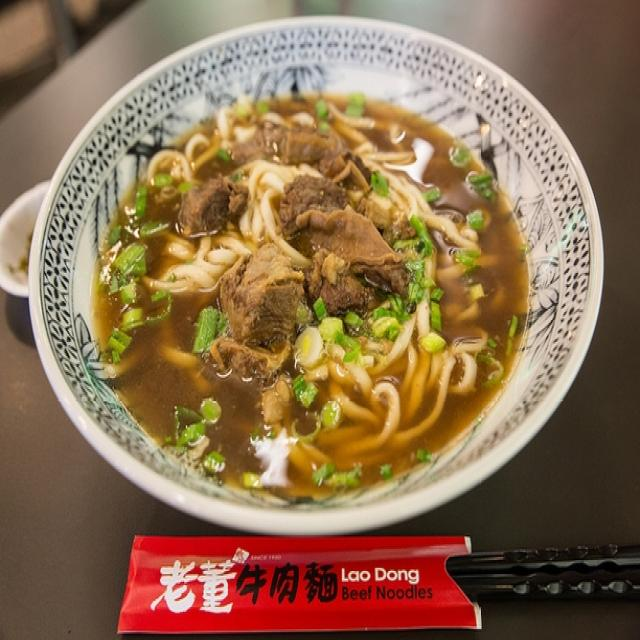面条主食: (74, 58, 534, 519)
